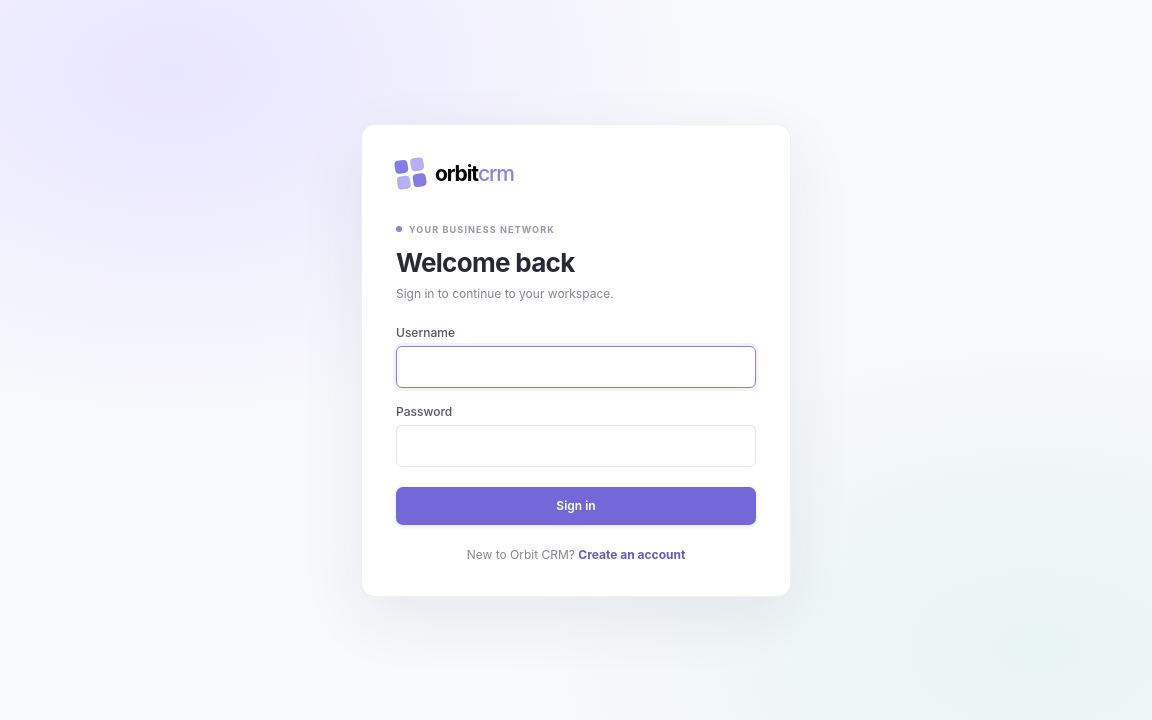
requires login and sends the auth token with protected requests
expect the heading "Welcome back" is shown: met, box [396,246,575,278]
Type "taylor" into the field labelled "Username" at (576, 366), box [396,346,756,388]
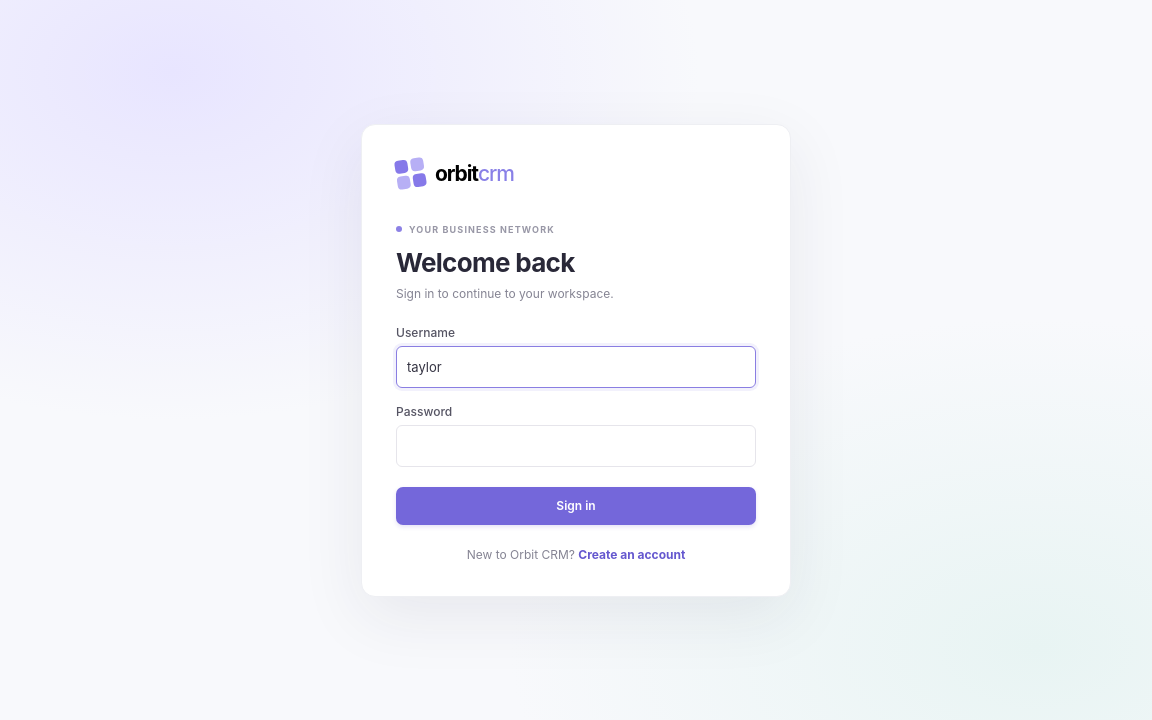
Type "a-long-unique-password" into the password field labelled "Password" at (576, 446), box [396,424,756,466]
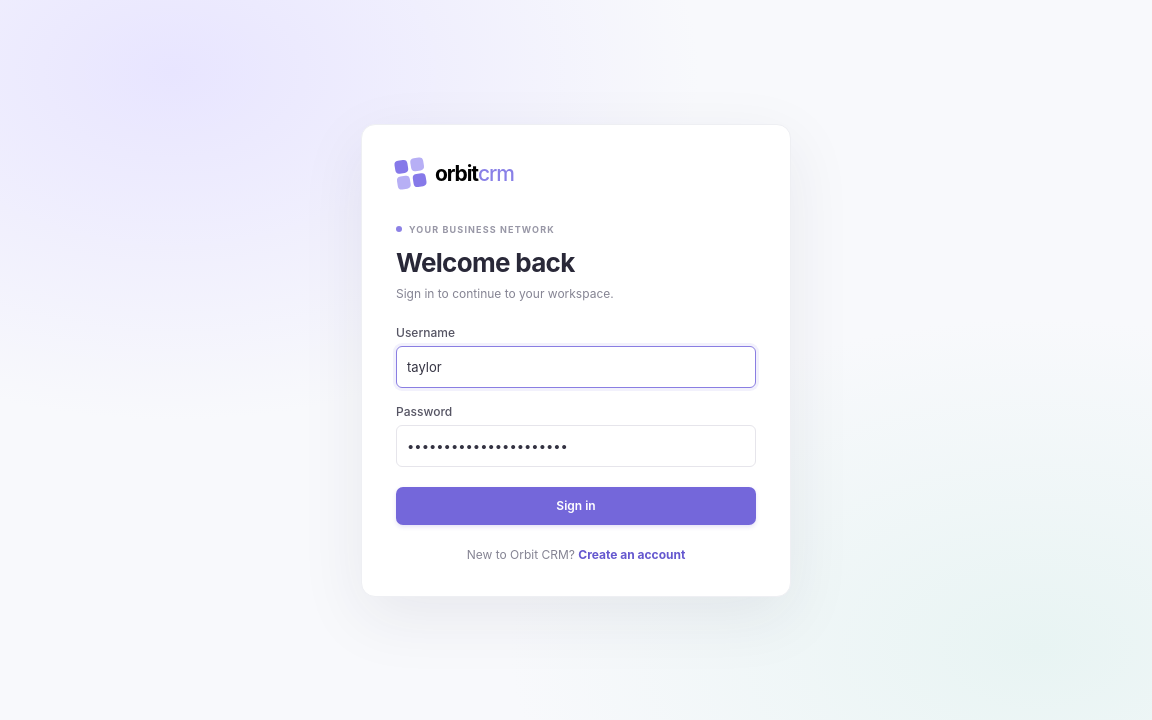
Click the button "Sign in" at (576, 506), box [396,486,756,524]
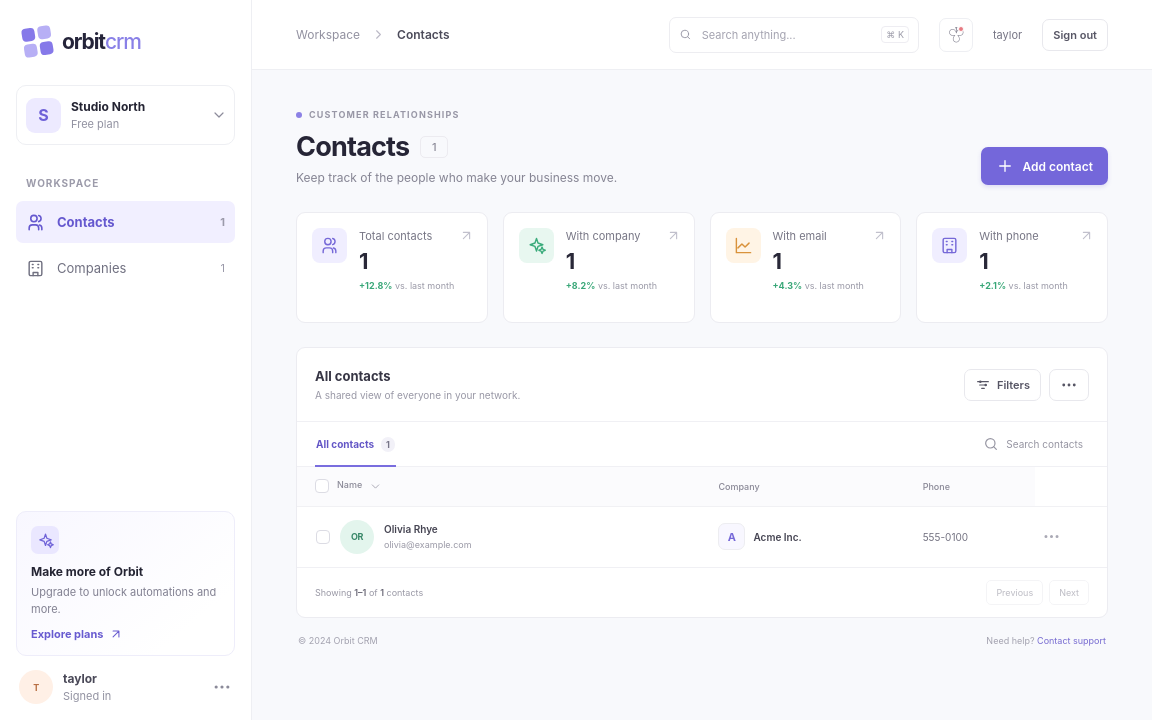
expect the text "Sign in" is gone: met
expect the button "Olivia Rhye" is shown: met, box [384,523,438,535]
Click the button "Companies 1" at (126, 268), box [16,247,235,289]
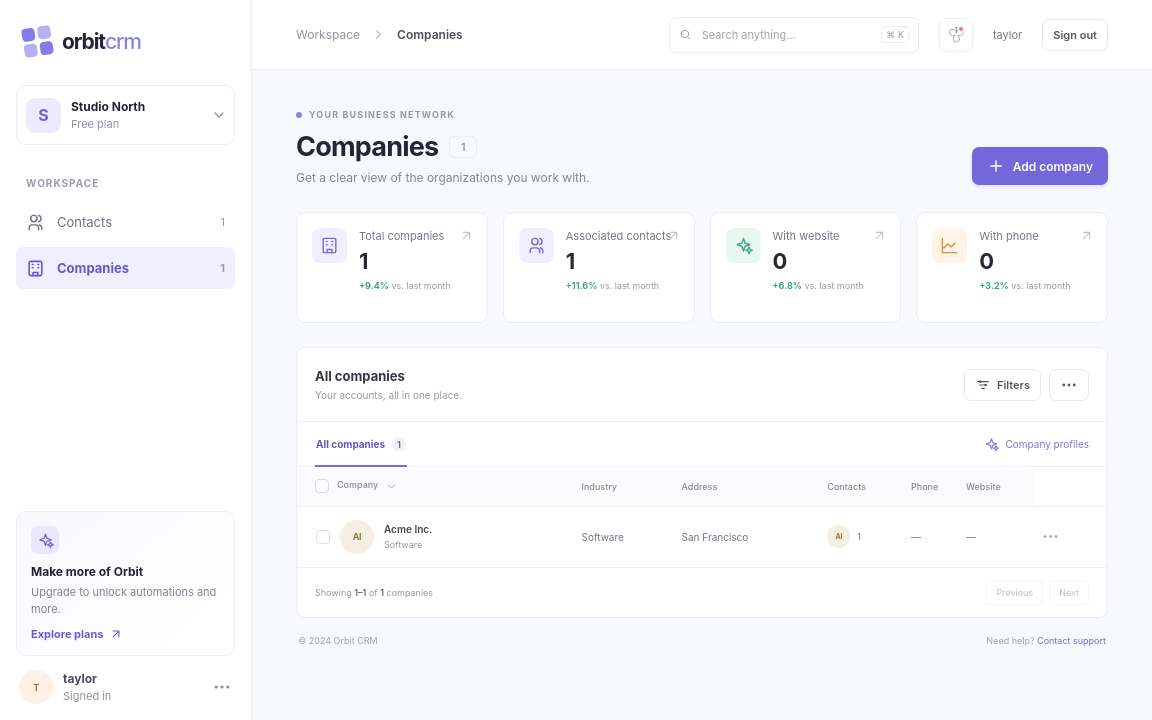
expect the button "Acme Inc." is shown: met, box [384,523,432,535]
